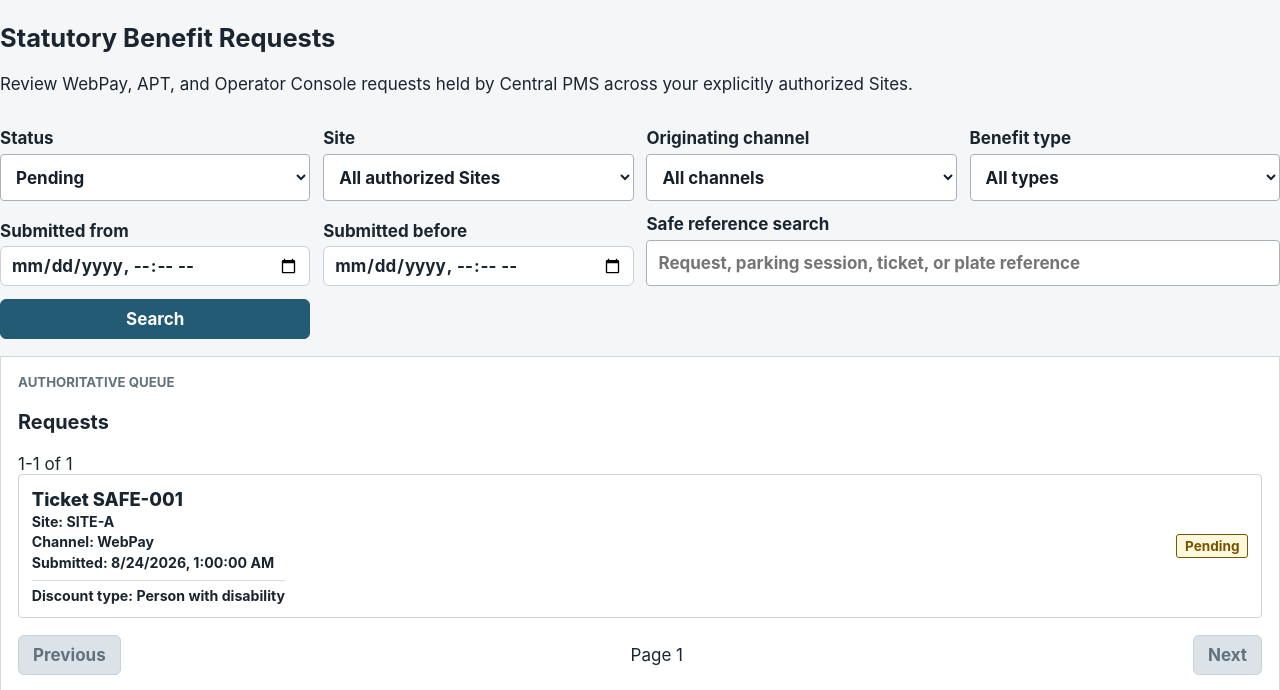
Statutory Benefit Requests › shows the safe backend evidence diagnostic without treating evidence as absent
This screenshot has width=1280, height=690.
Click the button named "Person with disability": (640, 546) [18,474,1262,618]
(page scrolled)
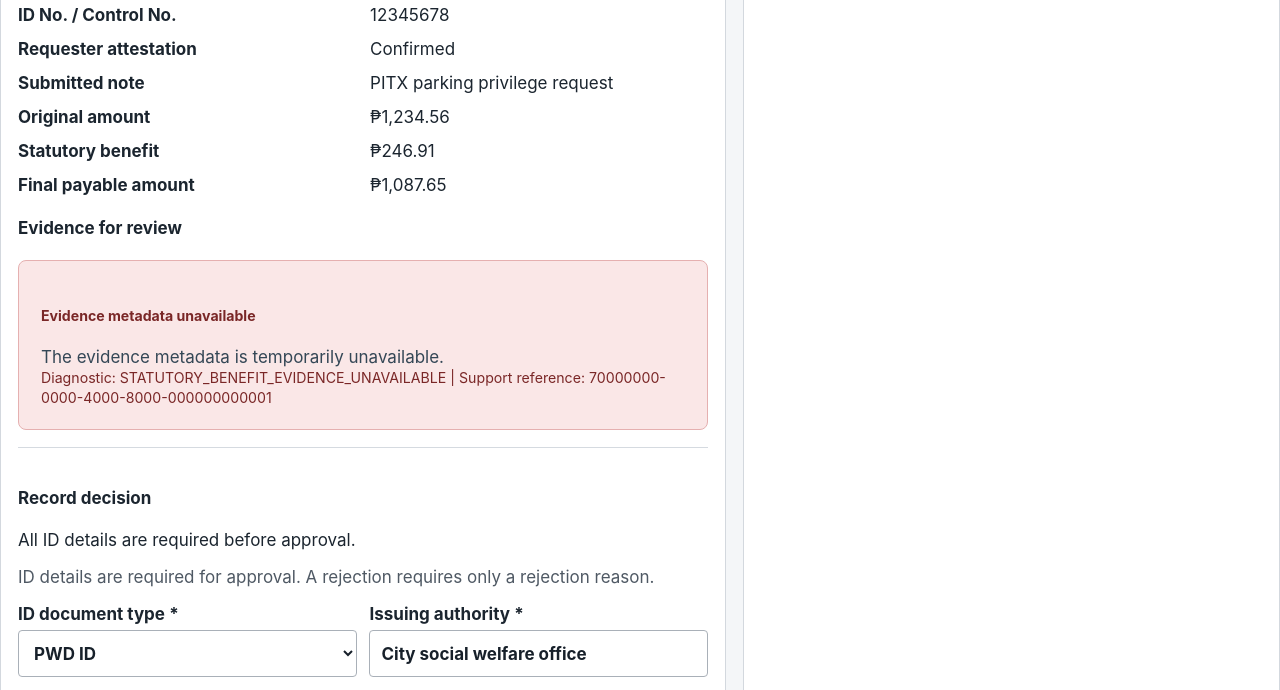
Check: the message shows "Evidence metadata unavailable", box [41,307,256,324]
Check: the message shows "STATUTORY_BENEFIT_EVIDENCE_UNAVAILABLE", box [120,369,446,386]
Check: the message shows "70000000-0000-4000-8000-000000000001", box [41,369,666,406]
